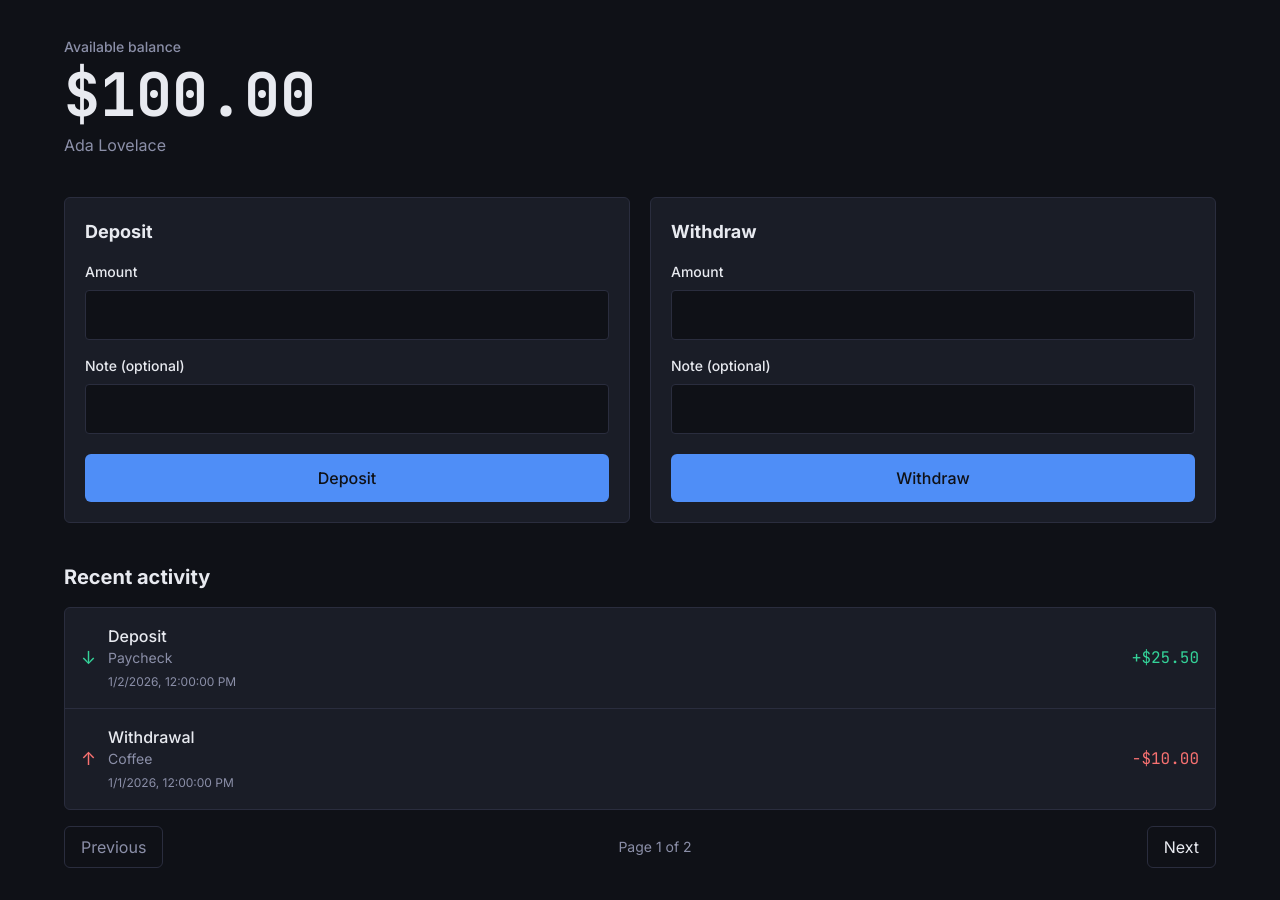
Test case: AccountDashboard › renders signed, labeled transactions and paginates the history
This screenshot has width=1280, height=900.
(page scrolled)
expect the text "Paycheck" is shown: met, box [108, 649, 172, 666]
expect the text "Deposit" is shown: met, box [108, 626, 167, 646]
What coordinates should you click on to do the following:
click the button "Next"
I would click on:
 (1181, 847)
Its box is [1147, 826, 1216, 868].
(page scrolled)
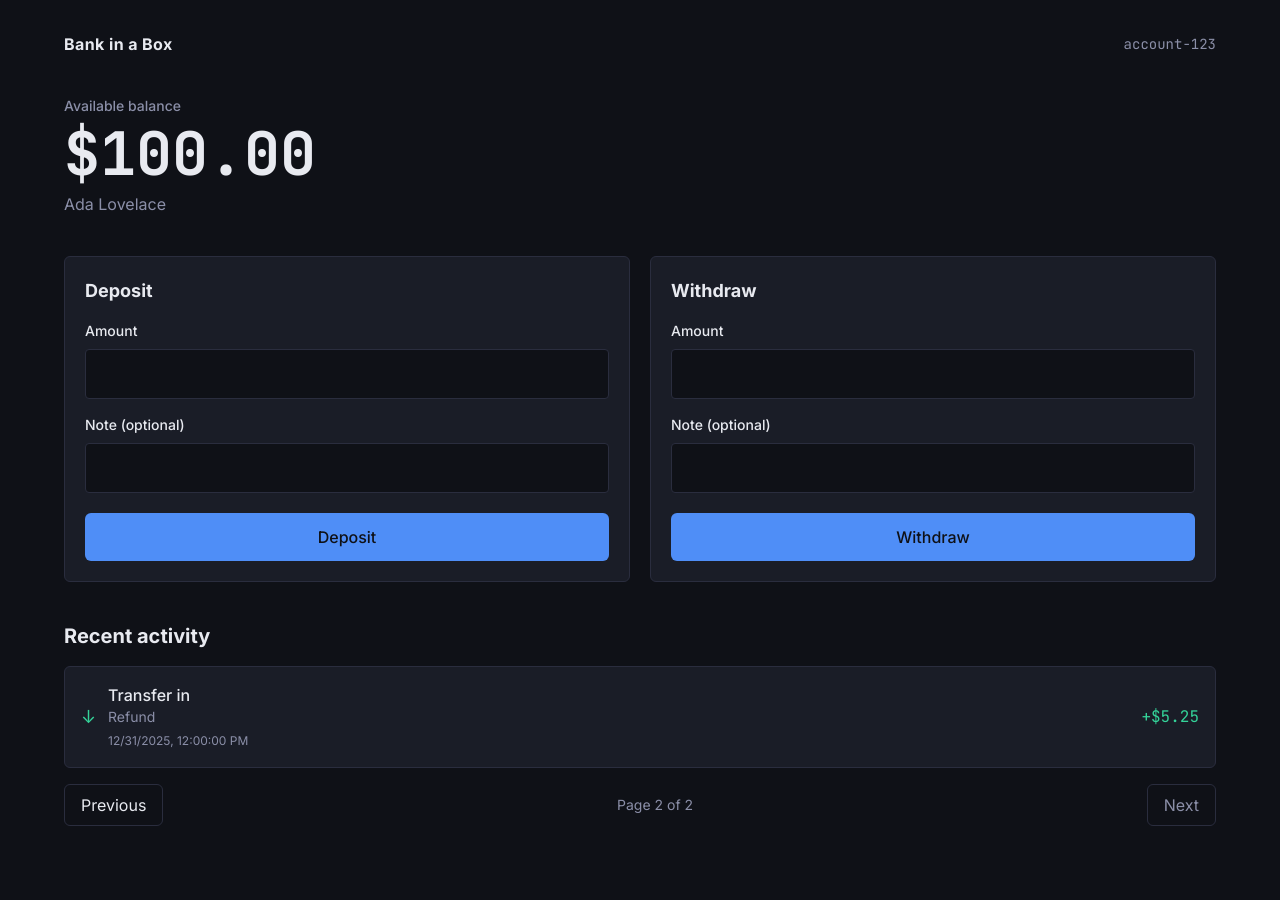
expect the text "Refund" is shown: met, box [108, 708, 155, 725]
expect the text "+$5.25" is shown: met, box [1141, 705, 1199, 729]
expect the text "Page 2 of 2" is shown: met, box [617, 795, 693, 815]
